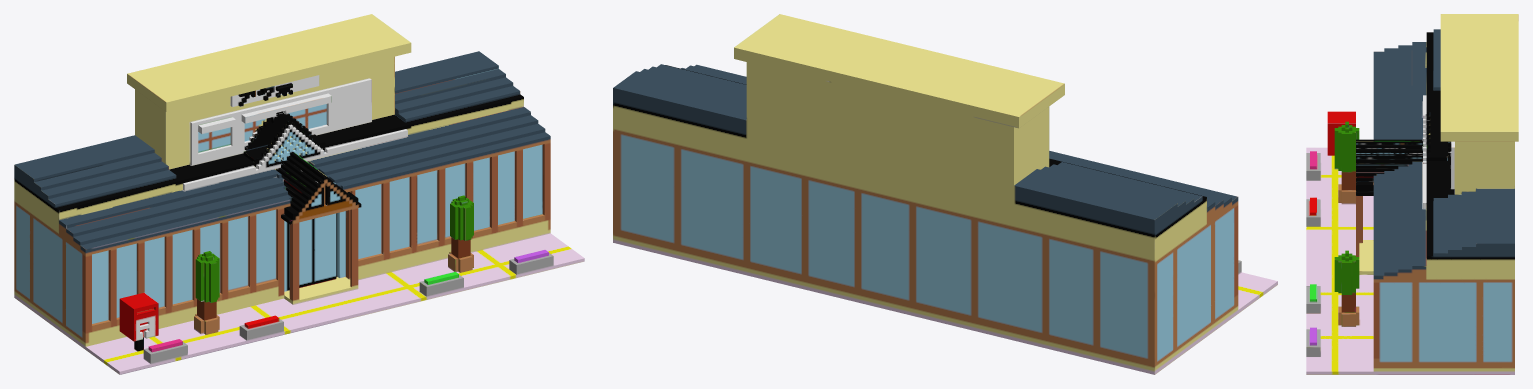
File: akuneeki.glb
3 views of the same model, side by side, from view 1: azimuth 30°, elevation 25°; view 2: azimuth 150°, elevation 25°; view 3: azimuth 270°, elevation 25° (orthographic). The views are drawn at different scales.
Parts seen in each view (by area): view 1: akuneeki; view 2: akuneeki; view 3: akuneeki.
Boxes of the visible parts, x1,y1,x2,y2 form: akuneeki: [14, 14, 584, 374]; akuneeki: [613, 14, 1277, 374]; akuneeki: [1306, 14, 1518, 374].
Bounding box in the file's own units: 3 × 1.2 × 1.2.
Materials: 1 (1 with a texture image).
